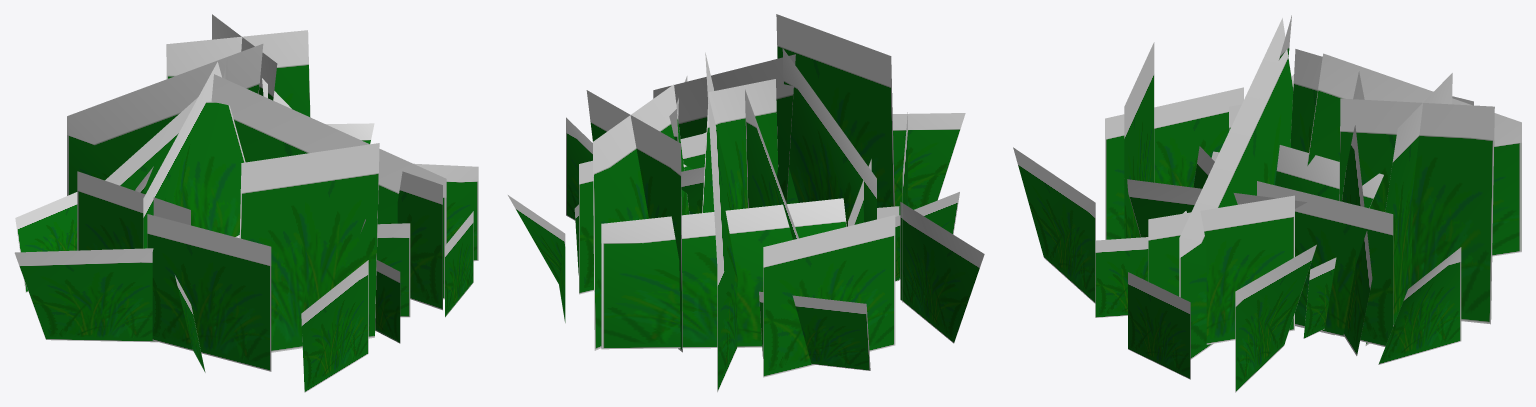
The model's file is gras03.obj.
The picture shows the model from 3 angles, left to right: view 1: azimuth 30°, elevation 25°; view 2: azimuth 150°, elevation 25°; view 3: azimuth 270°, elevation 25°; orthographic projection. The views are drawn at different scales.
Visible parts, largest first — view 1: Duplicate01, Duplicate02, Duplicate03, Duplicate04, Duplicate05; view 2: Duplicate01, Duplicate03, Duplicate02, Duplicate04, Duplicate05, Box02; view 3: Duplicate02, Duplicate04, Duplicate01, Duplicate03, Duplicate05, Box02.
Part boxes in pixels (left/top/right/bottom): Duplicate01: left=14, top=97, right=400, bottom=392; Duplicate02: left=143, top=62, right=478, bottom=372; Duplicate03: left=67, top=30, right=310, bottom=195; Duplicate04: left=211, top=14, right=446, bottom=299; Duplicate05: left=223, top=59, right=374, bottom=143; Duplicate01: left=745, top=14, right=984, bottom=377; Duplicate03: left=586, top=52, right=846, bottom=392; Duplicate02: left=566, top=48, right=959, bottom=294; Duplicate04: left=593, top=54, right=795, bottom=350; Duplicate05: left=508, top=79, right=778, bottom=323; Box02: left=681, top=167, right=798, bottom=214; Duplicate02: left=1128, top=15, right=1393, bottom=392; Duplicate04: left=1127, top=18, right=1494, bottom=359; Duplicate01: left=1013, top=42, right=1473, bottom=317; Duplicate03: left=1303, top=53, right=1521, bottom=345; Duplicate05: left=1290, top=49, right=1461, bottom=364; Box02: left=1275, top=145, right=1383, bottom=208.
Bounding box in the file's own units: 94.96 × 51.35 × 89.75.
